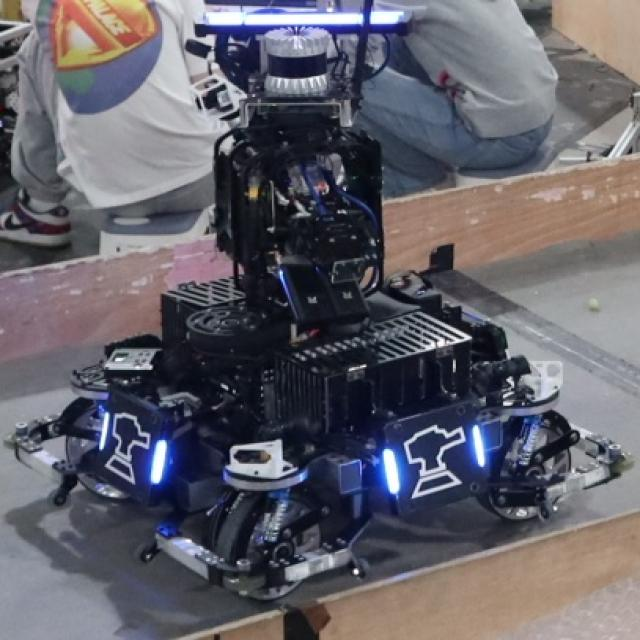Bs: (384, 418, 491, 501), (94, 395, 167, 491)
